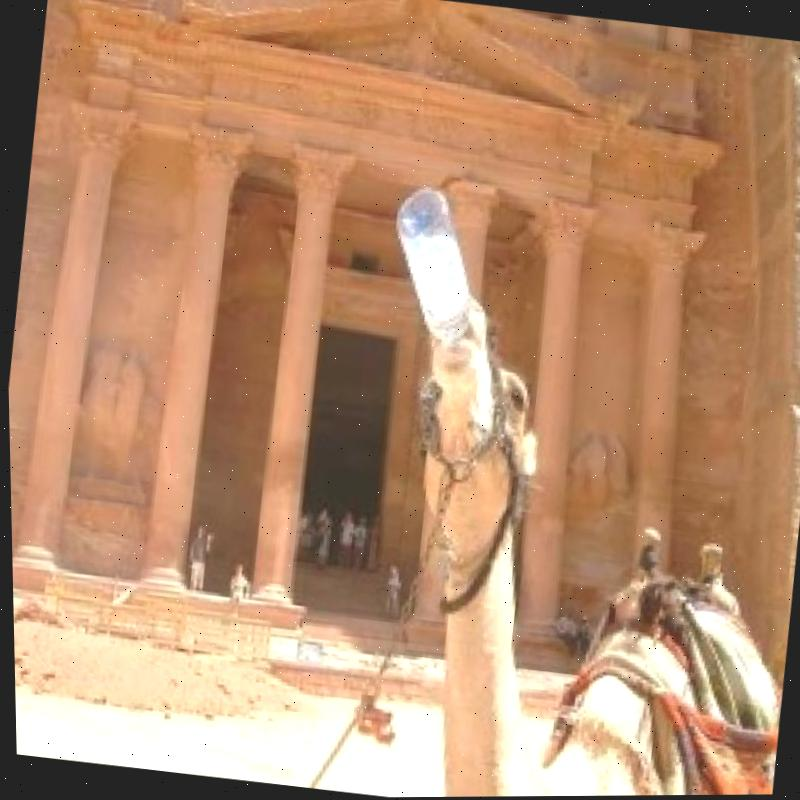botella: (374, 181, 483, 346)
